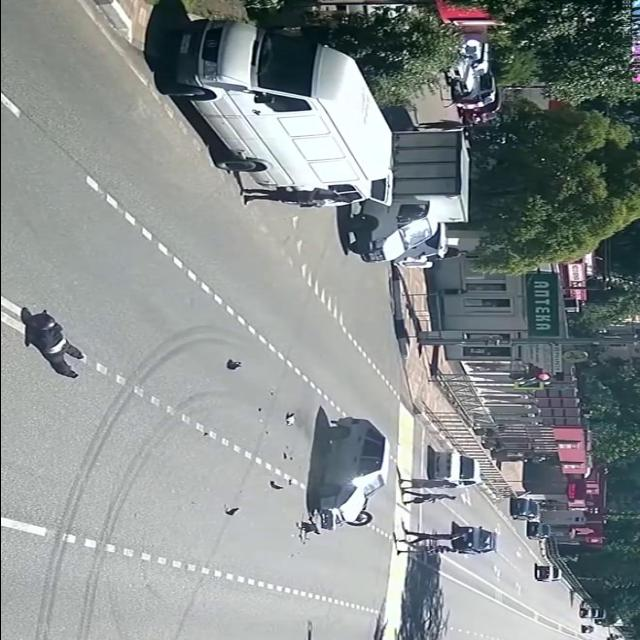accident: (216, 404, 396, 548), (3, 301, 104, 388)
non_accident: (149, 9, 479, 275), (393, 447, 487, 509), (390, 521, 502, 563), (506, 495, 552, 544)
